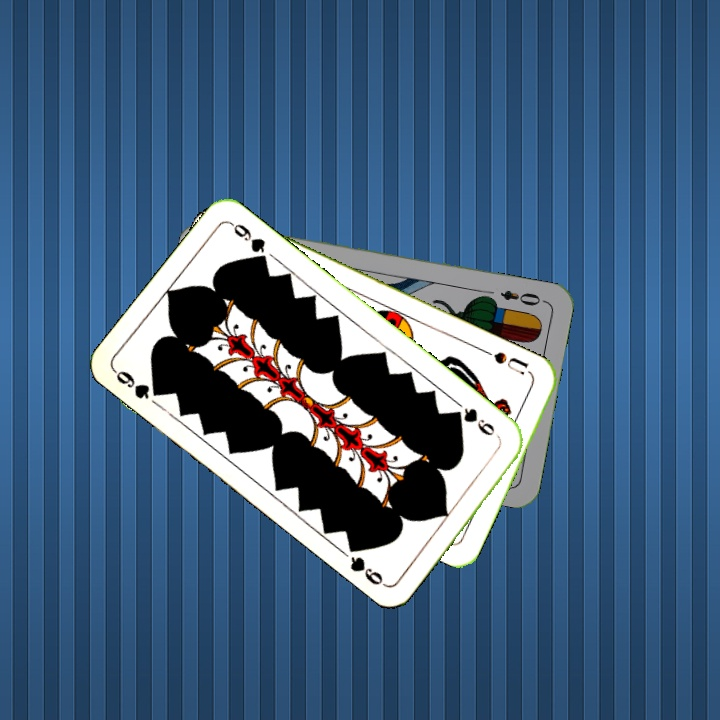EO: (496, 285, 548, 309)
G9: (110, 366, 167, 402), (449, 403, 498, 439)
SU: (479, 345, 531, 378)
